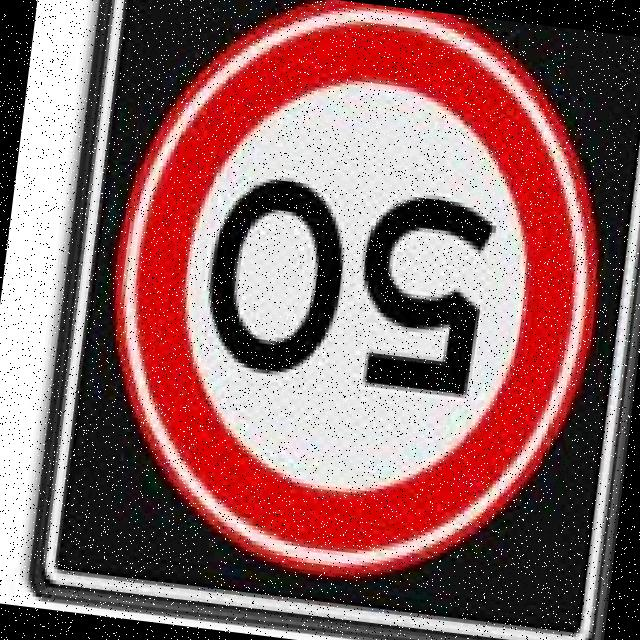speed_limit_50: (77, 0, 640, 617)
